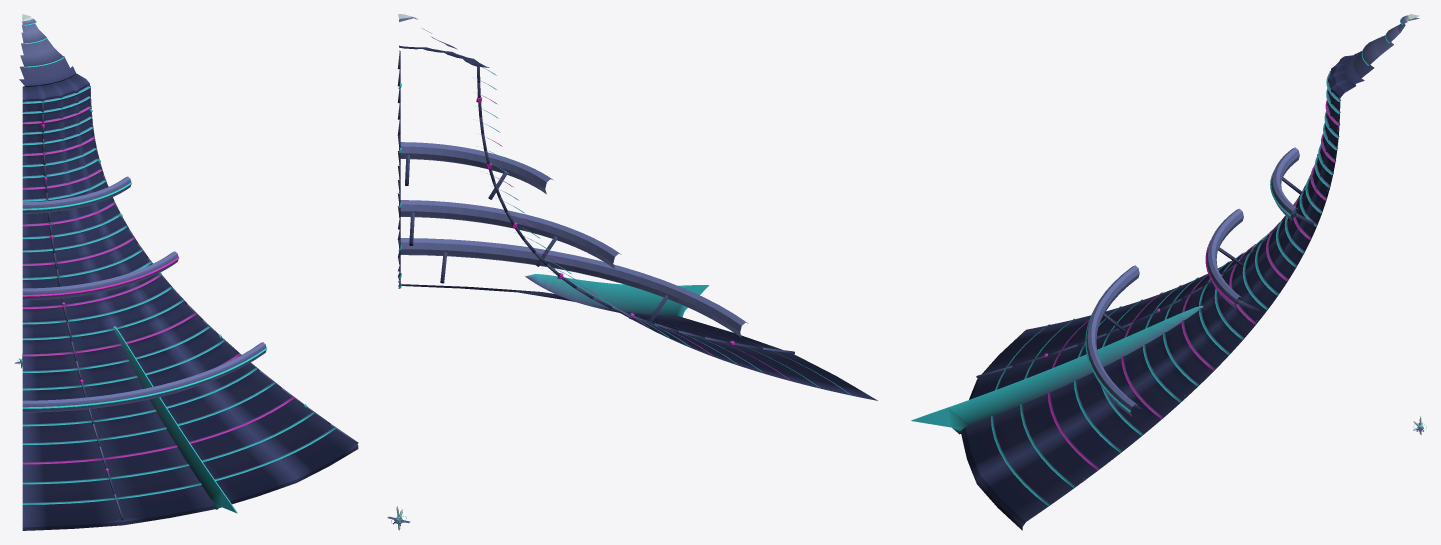
Rendered from core-s2-D4BvJ7zH.glb.
3 views of the same model, side by side, from view 1: azimuth 30°, elevation 25°; view 2: azimuth 150°, elevation 25°; view 3: azimuth 270°, elevation 25° (orthographic). The views are drawn at different scales.
Visible parts, largest first — view 1: sc_landmark_4; view 2: sc_landmark_4; view 3: sc_landmark_4.
Boxes of the visible parts, left/top/right/bottom form: sc_landmark_4: left=19, top=14, right=358, bottom=530; sc_landmark_4: left=397, top=14, right=877, bottom=400; sc_landmark_4: left=911, top=14, right=1419, bottom=530.
Bounding box in the file's own units: 376 × 379 × 422.
